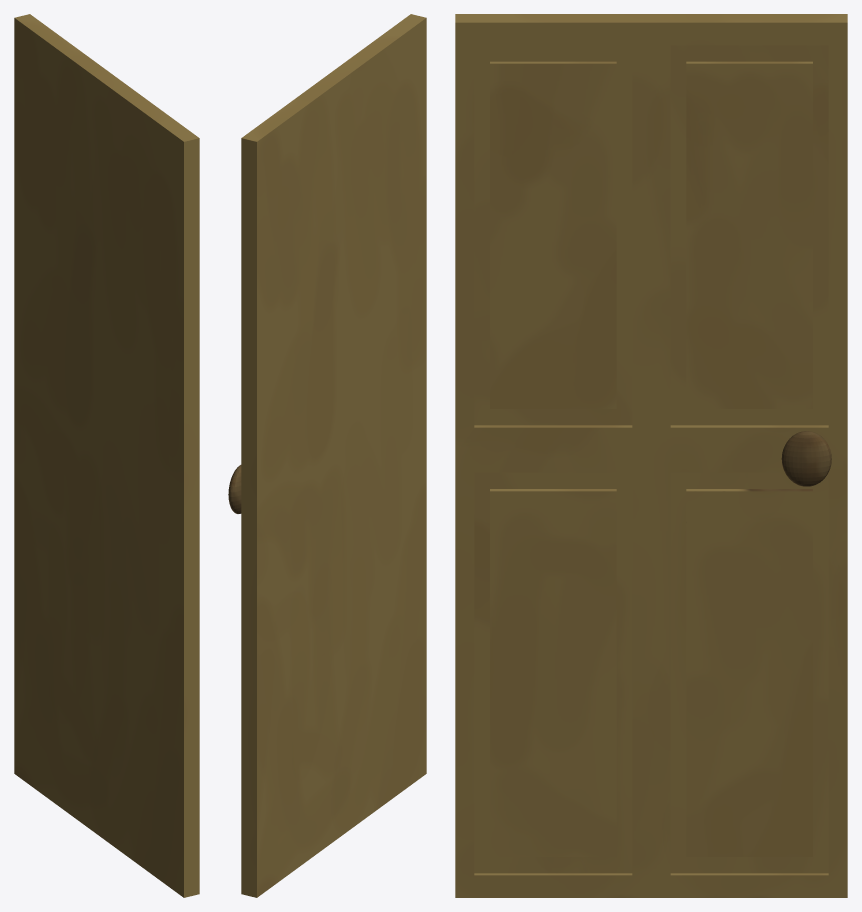
The model's file is Door.fbx.
3 views of the same model, side by side, from view 1: azimuth 30°, elevation 25°; view 2: azimuth 150°, elevation 25°; view 3: azimuth 270°, elevation 25° (orthographic). The views are drawn at different scales.
Parts seen in each view (by area): view 1: Cylinder; view 2: Cylinder; view 3: Cylinder.
Boxes of the visible parts, <box> form: Cylinder: <box>14,14,199,897</box>; Cylinder: <box>228,14,426,897</box>; Cylinder: <box>455,14,847,897</box>.
Size of the model in its own units: 12.9 by 231 by 93.85.
